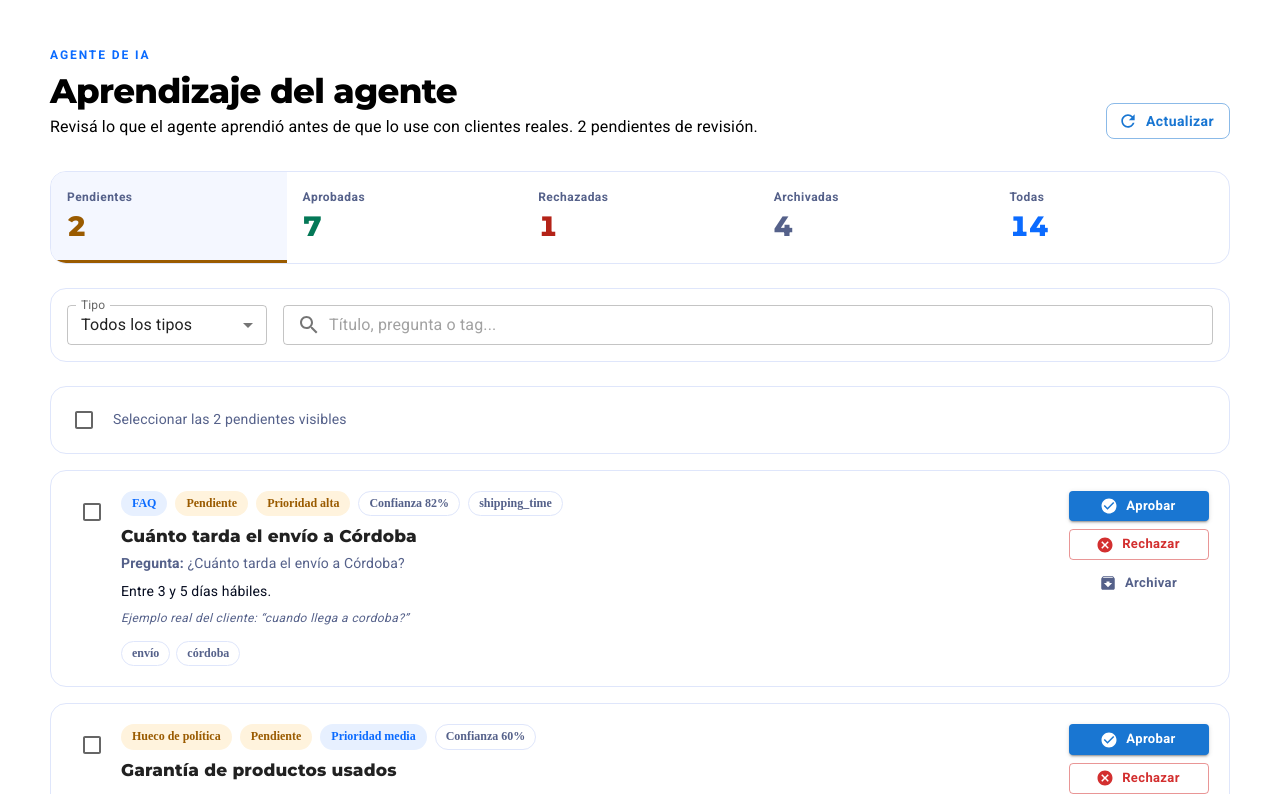
it: Aprendizaje · acciones según el estado › aprobar abre un diálogo con el texto de la sugerencia para editarlo
The width and height of the screenshot is (1280, 794).
Step 1. Click the button "Aprobar" in the row of "shipping_time" → (1139, 506), box top-left (1069, 490), bottom-right (1209, 521)
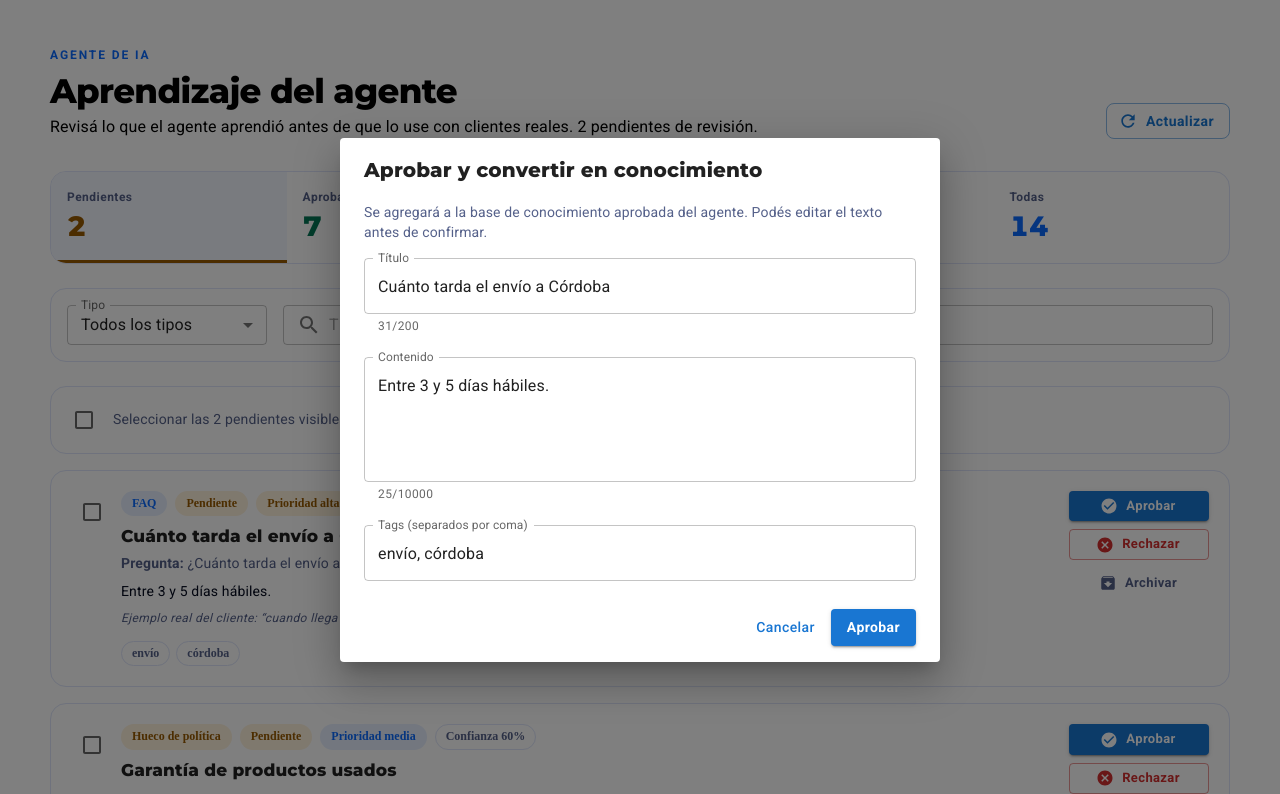
Check: the heading "Aprobar y convertir en conocimiento" is shown, box top-left (364, 158), bottom-right (762, 182)
Check: the field labelled "Título" holds "Cuánto tarda el envío a Córdoba", box top-left (364, 258), bottom-right (916, 314)
Check: the text box labelled "Contenido" holds "Entre 3 y 5 días hábiles.", box top-left (378, 374), bottom-right (902, 466)
